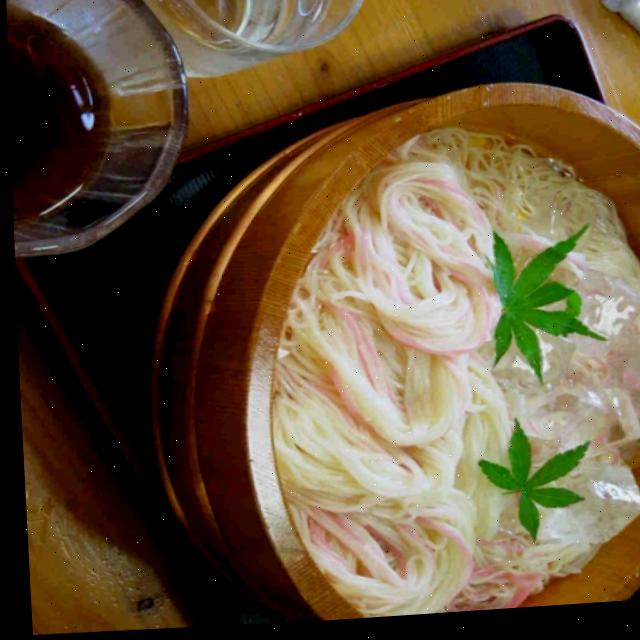面条主食: (105, 70, 640, 635)
